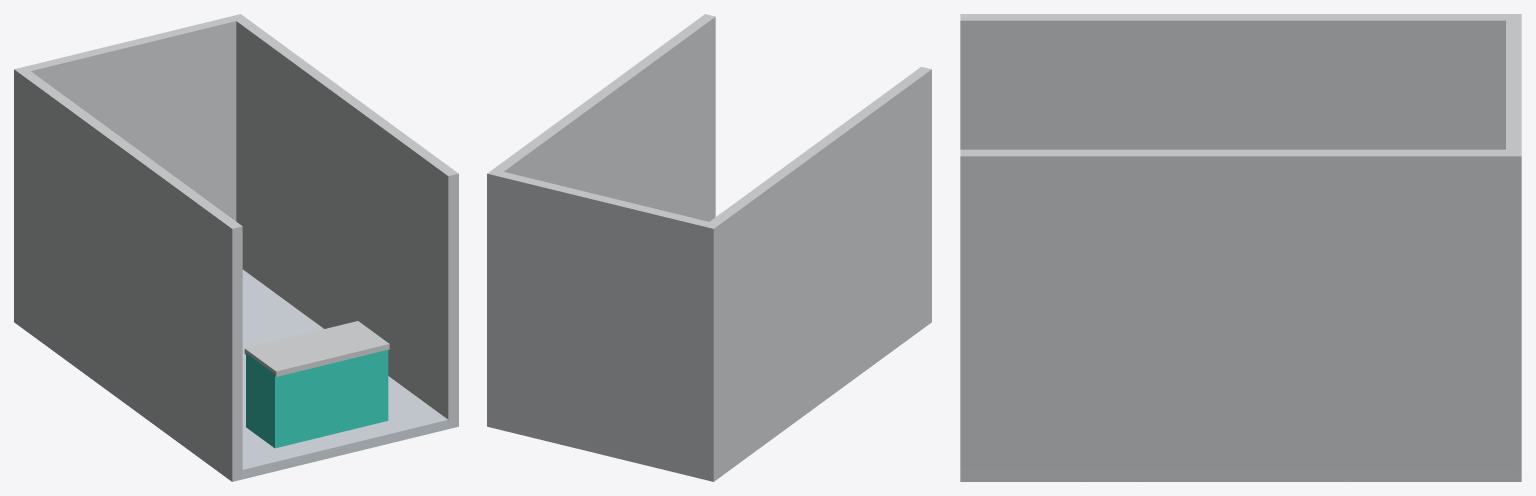
3 renders of one model, left to right at view 1: azimuth 30°, elevation 25°; view 2: azimuth 150°, elevation 25°; view 3: azimuth 270°, elevation 25°, orthographic. The views are drawn at different scales.
Visible parts, largest first — view 1: Exhibition Booth Concept; view 2: Exhibition Booth Concept; view 3: Exhibition Booth Concept.
Part boxes in pixels (left/top/right/bottom): Exhibition Booth Concept: left=14, top=14, right=458, bottom=481; Exhibition Booth Concept: left=487, top=14, right=931, bottom=481; Exhibition Booth Concept: left=960, top=14, right=1521, bottom=481.
Bounding box in the file's own units: 3 × 3.2 × 5.
